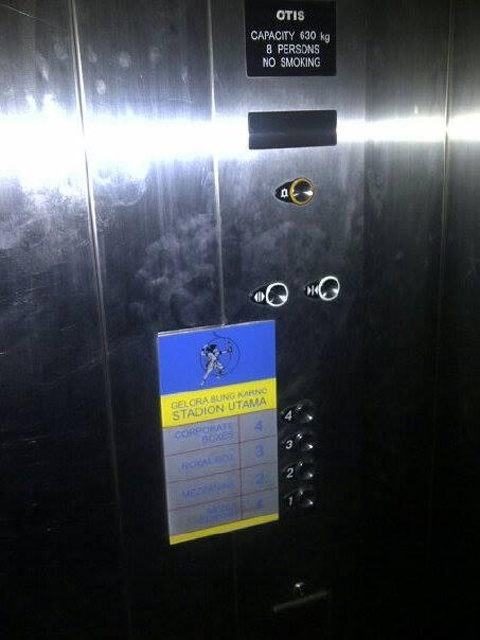1: (281, 486, 317, 513)
2: (281, 457, 317, 483)
3: (282, 429, 316, 457)
4: (281, 398, 316, 428)
alarm: (275, 179, 312, 204)
blur: (291, 579, 311, 600)
close: (300, 275, 341, 304)
led: (248, 109, 336, 150)
open: (248, 281, 289, 309)
